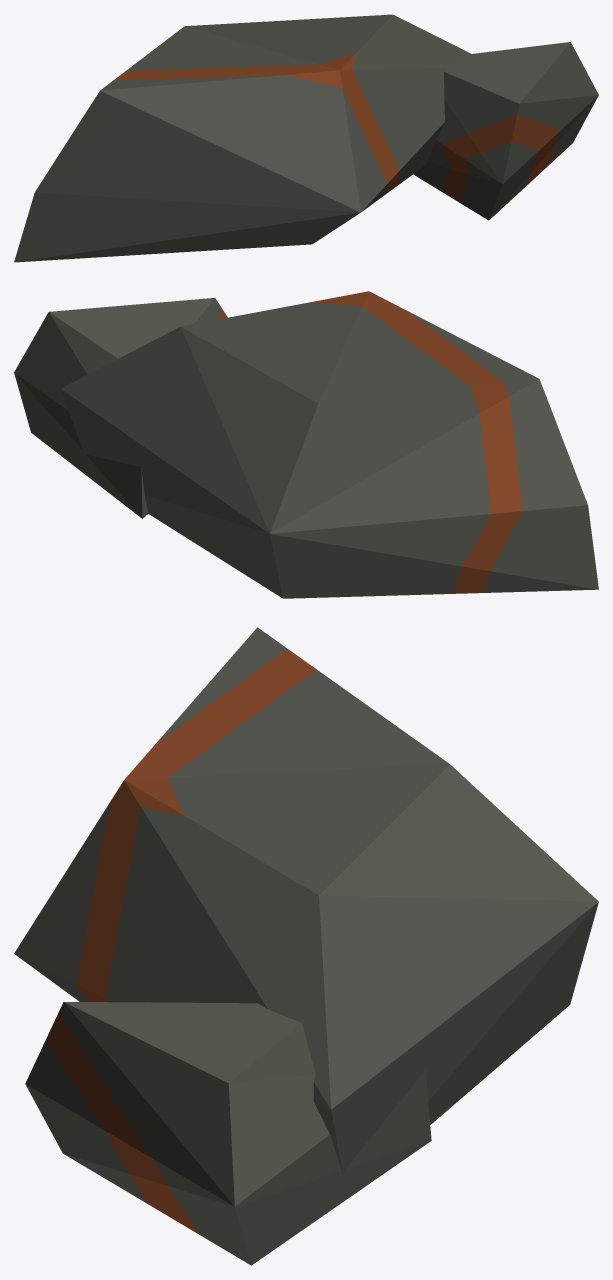
File: ore_copper_v02_lod1.glb
3 views of the same model, one above another, from view 1: azimuth 30°, elevation 25°; view 2: azimuth 150°, elevation 25°; view 3: azimuth 270°, elevation 25° (orthographic). The views are drawn at different scales.
Visible parts, largest first — view 1: ore_copper_v02_lod1; view 2: ore_copper_v02_lod1; view 3: ore_copper_v02_lod1.
Boxes of the visible parts, box(x1,y1,x2,y2) form: ore_copper_v02_lod1: box(14, 14, 598, 262); ore_copper_v02_lod1: box(14, 291, 598, 598); ore_copper_v02_lod1: box(14, 627, 598, 1265).
Size of the model in its own units: 2.9 by 0.8293 by 1.62.
